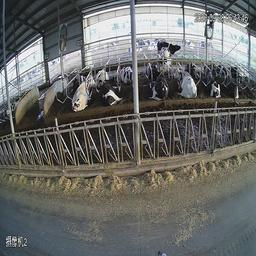cow: (64, 64, 96, 116), (173, 61, 203, 105), (144, 64, 174, 107), (101, 71, 123, 109), (224, 64, 244, 101), (155, 35, 176, 70), (204, 66, 221, 105), (118, 57, 133, 90)
